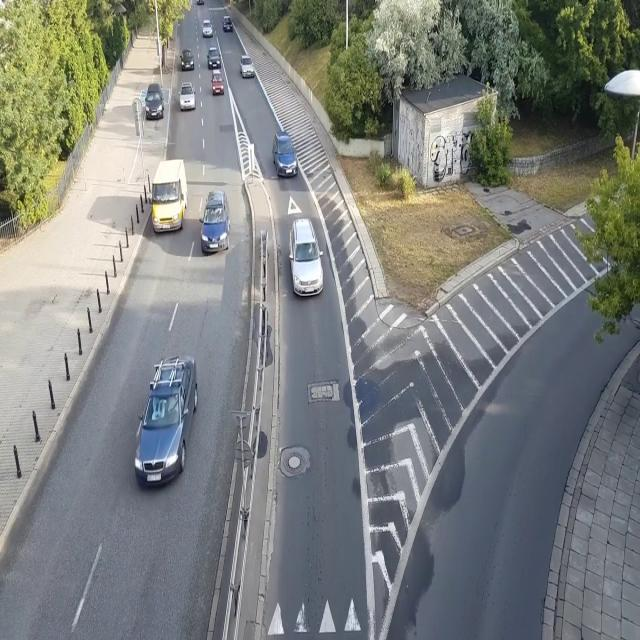car: (133, 353, 199, 491), (289, 217, 326, 299), (199, 189, 231, 255), (270, 130, 298, 181), (144, 82, 165, 120), (178, 80, 197, 113), (240, 56, 255, 81), (211, 71, 223, 98), (207, 47, 221, 69), (180, 50, 193, 70), (201, 18, 213, 36), (222, 14, 233, 32)
van: (152, 159, 188, 237)
